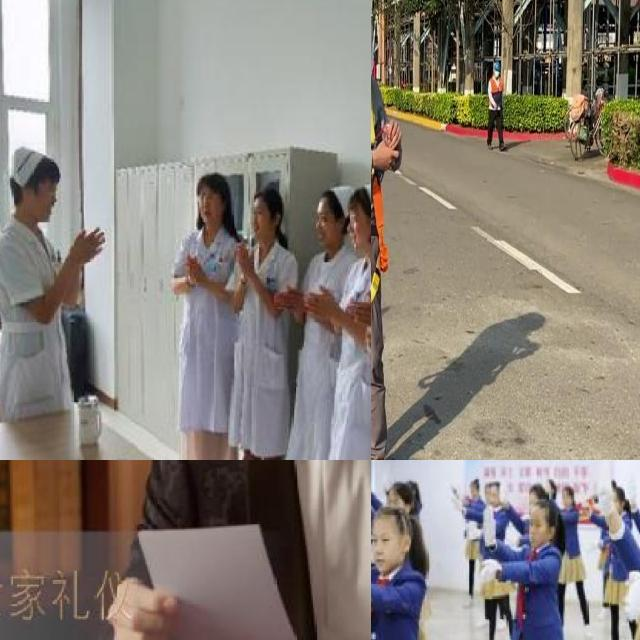Harness: (371, 173, 389, 307)
face_nomask: (28, 182, 64, 225), (371, 525, 400, 567), (314, 204, 334, 249), (195, 189, 218, 227), (348, 201, 364, 252), (526, 513, 548, 549), (246, 202, 268, 236)
hand_glove: (617, 564, 640, 625), (592, 460, 614, 511), (482, 504, 497, 540), (625, 472, 637, 507), (480, 556, 496, 582), (449, 493, 464, 509), (465, 524, 477, 540)
hand_noglove: (106, 578, 177, 640), (70, 225, 107, 262), (345, 290, 371, 328), (307, 284, 334, 318), (273, 286, 302, 313), (235, 241, 253, 281), (184, 250, 202, 284)
head_nohelmet: (2, 148, 68, 192), (340, 183, 371, 216), (374, 502, 413, 526), (190, 172, 228, 195), (312, 186, 342, 212), (244, 189, 279, 210), (385, 480, 417, 501), (528, 482, 554, 500), (528, 503, 556, 518)
person: (93, 460, 371, 640), (0, 133, 108, 425), (165, 162, 248, 460), (230, 174, 301, 460), (474, 498, 591, 640), (297, 179, 343, 460), (371, 498, 460, 640), (340, 173, 371, 460)
